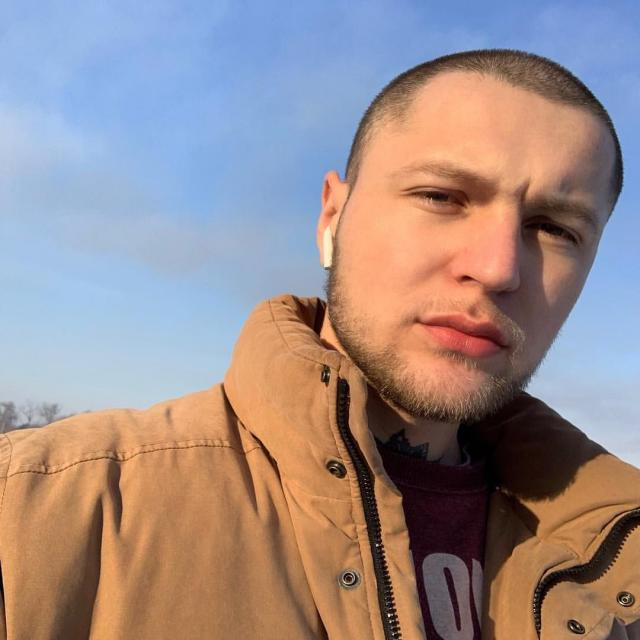earlobe: (316, 231, 337, 269)
eye: (522, 216, 581, 247), (404, 186, 468, 209)
nose: (449, 270, 523, 314)
wholeear: (316, 170, 351, 269)
